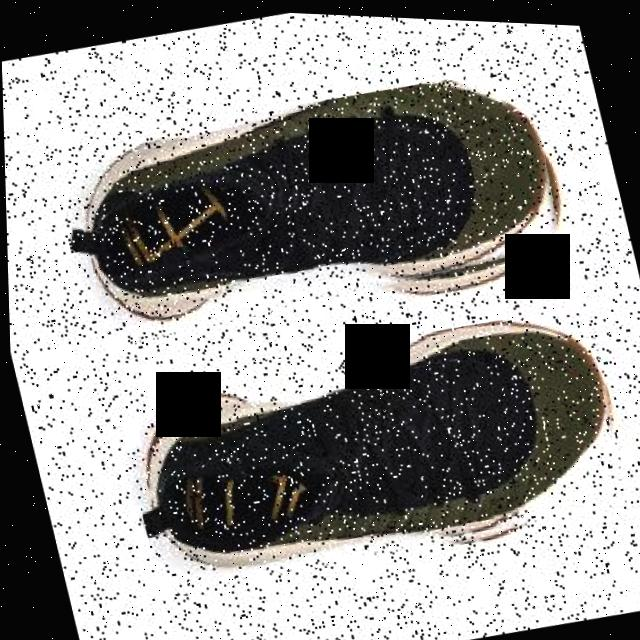shoe: (106, 282, 640, 614), (59, 44, 579, 365)
